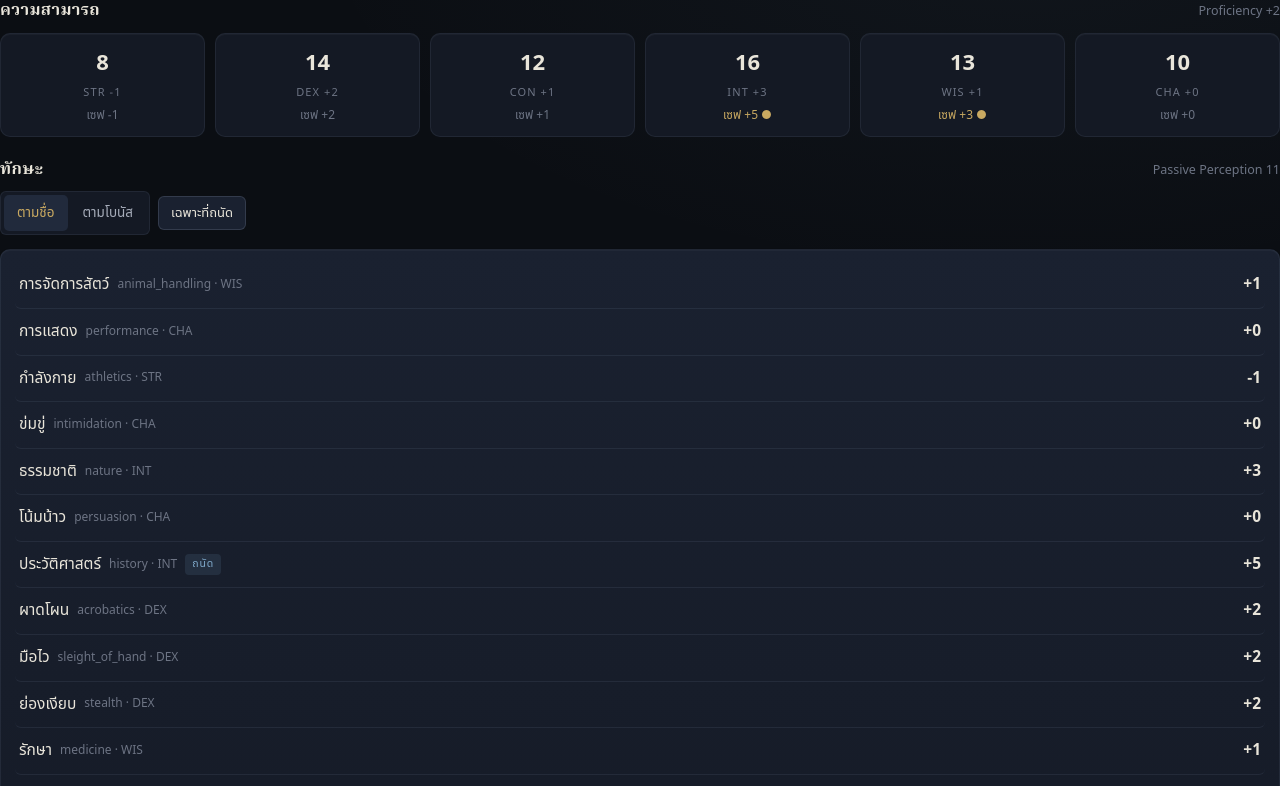
Test: Skills › filters to proficient-only
The image size is (1280, 786).
Expected: the text "ย่องเงียบ" is shown, [19, 692, 76, 717]
Click the button "เฉพาะที่ถนัด" at (202, 214), box [158, 196, 246, 230]
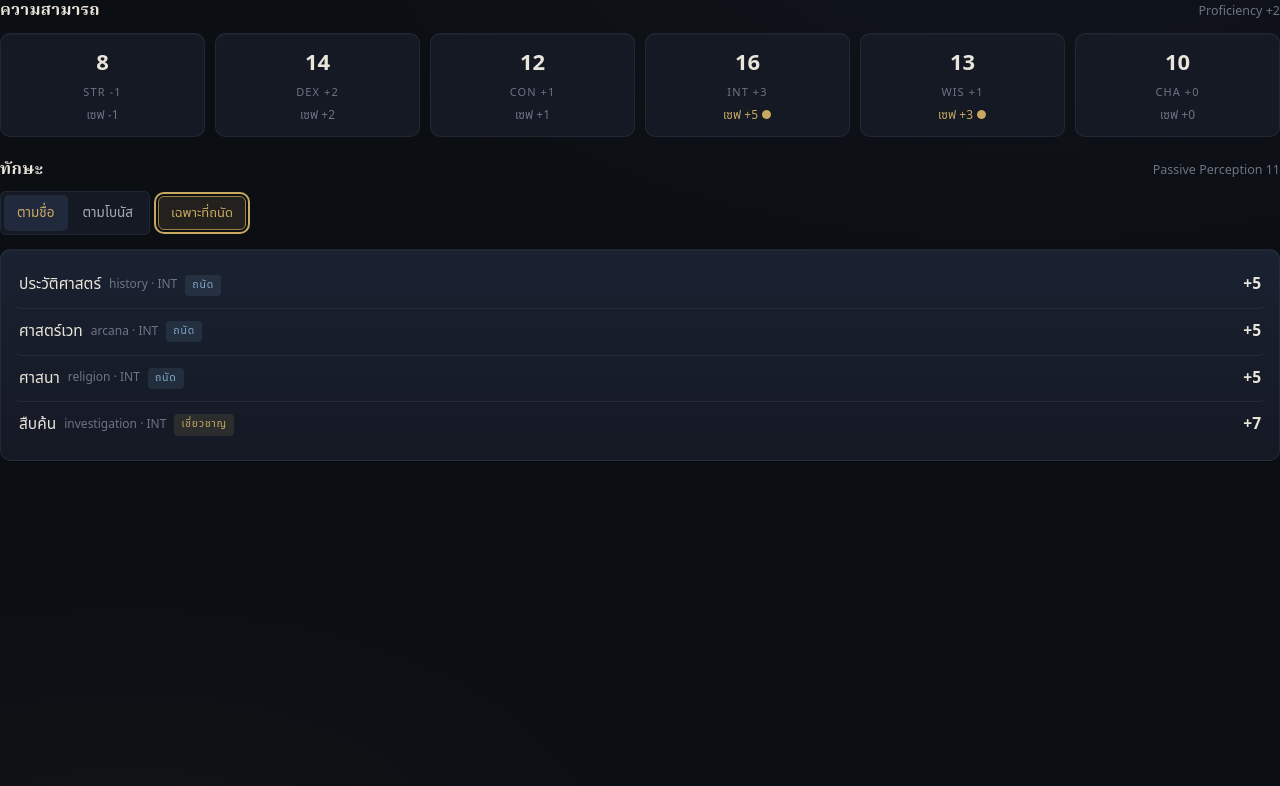
Expected: the text "ศาสตร์เวท" is shown, [19, 319, 83, 345]
Now the button "ย่องเงียบ" is gone
